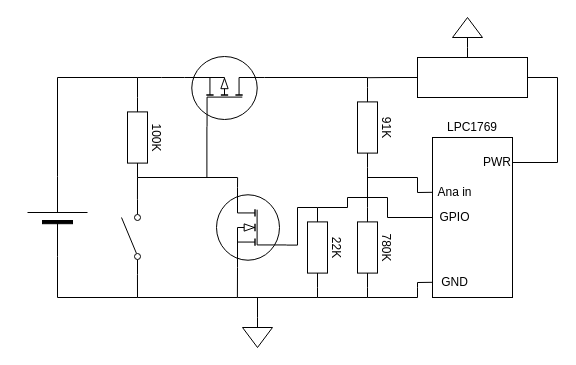
This 576x365 diagram has some shape labels left out. The box of each missing label's shape, as (x1, y1, x2, y2) in pixels:
3.7 V: (26, 176, 88, 256)
Regulateur: (416, 56, 528, 98)
